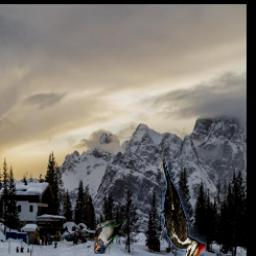Swallow: (93, 221, 125, 255)
Woodpecker: (161, 151, 207, 256)
